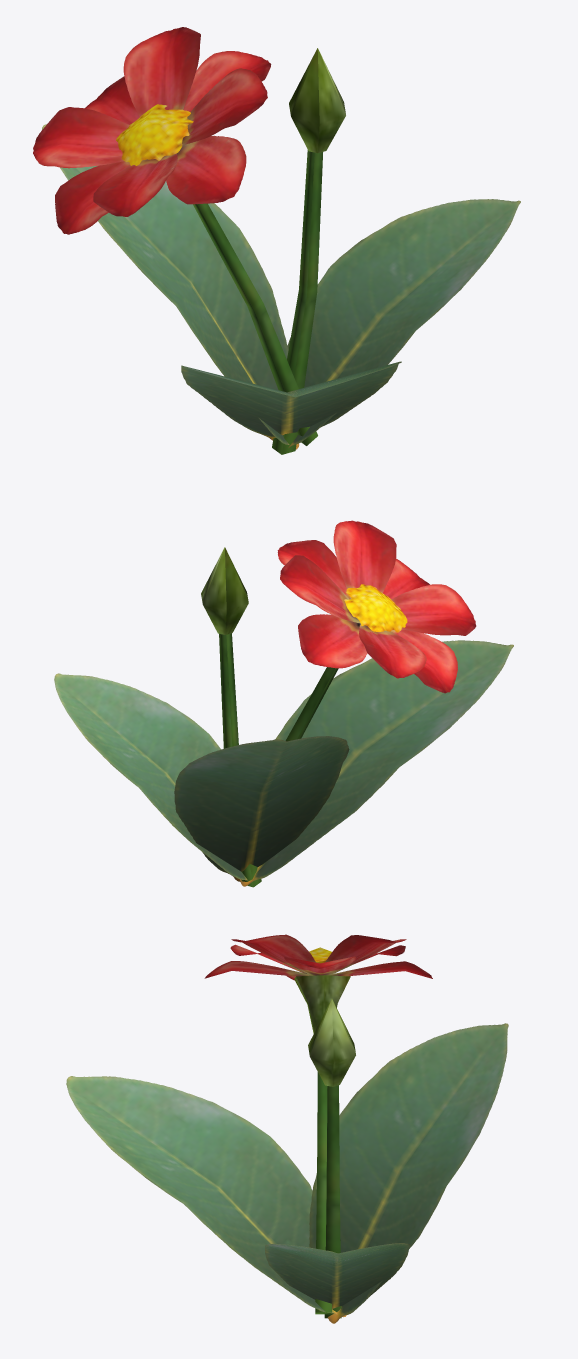
Rendered from redf2.fbx.
The picture shows the model from 3 angles, top to bottom: view 1: azimuth 30°, elevation 25°; view 2: azimuth 150°, elevation 25°; view 3: azimuth 270°, elevation 25°; orthographic projection. The views are drawn at different scales.
Visible parts, largest first — view 1: redflower02; view 2: redflower02; view 3: redflower02.
Part boxes in pixels (left/top/right/bottom): redflower02: left=33, top=27, right=520, bottom=454; redflower02: left=54, top=520, right=513, bottom=887; redflower02: left=66, top=934, right=508, bottom=1323.
Bounding box in the file's own units: 25.7 × 21.83 × 29.71.
